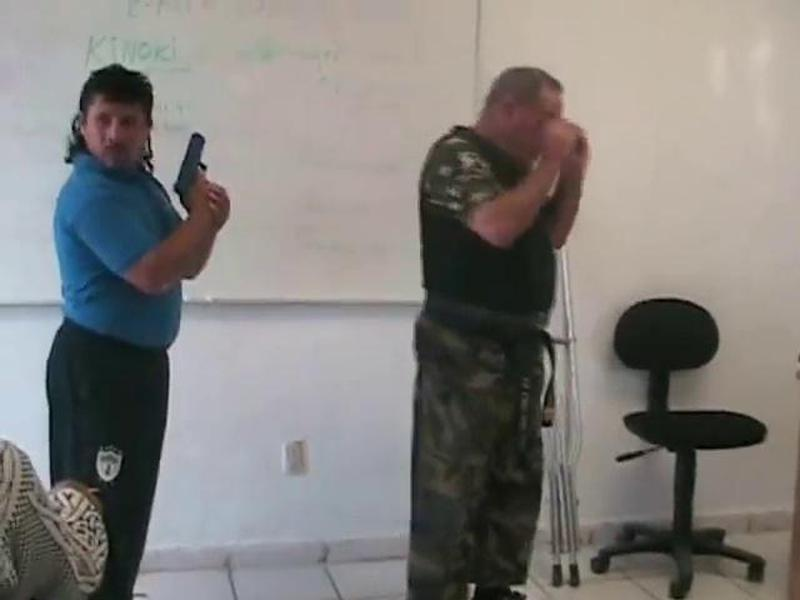Pistola: (173, 123, 212, 214)
